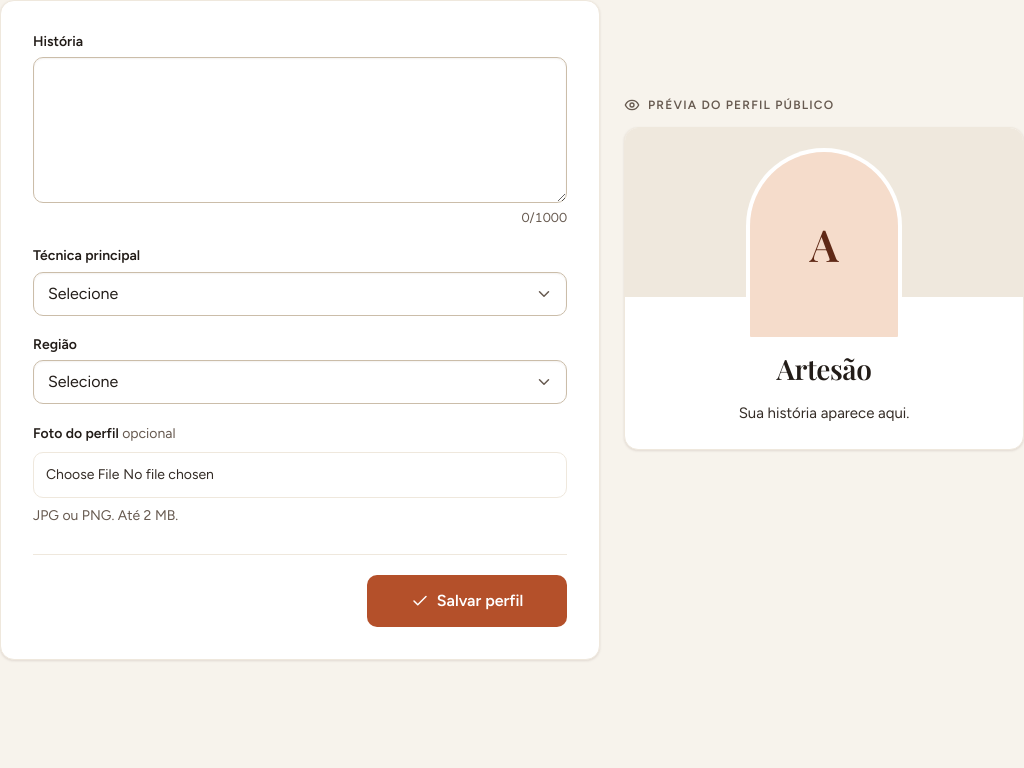
Test: PerfilArtesaoForm › cenario US03 - perfil incompleto: deixar tecnica em branco bloqueia envio e mostra erro no campo
The image size is (1024, 768).
Type "Historia preenchida mas sem tecnica nem regiao selecionadas." into the text box labelled "História" at (300, 130), box [33,57,567,203]
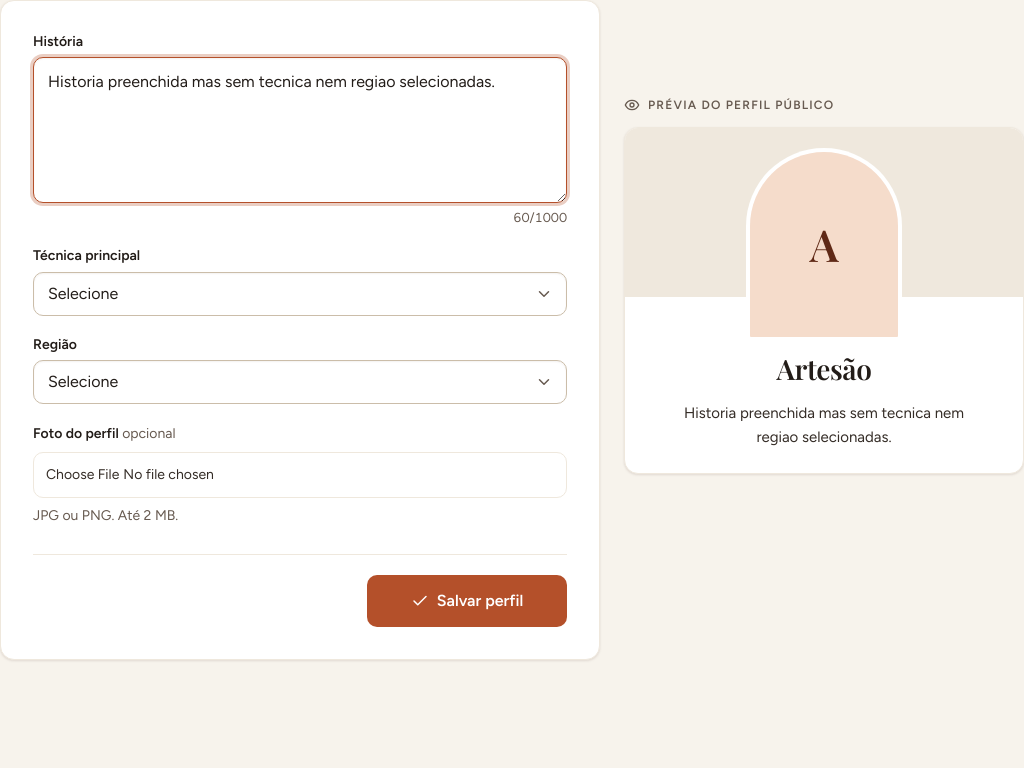
Click the button "Salvar perfil" at (467, 601), box [367,575,567,627]
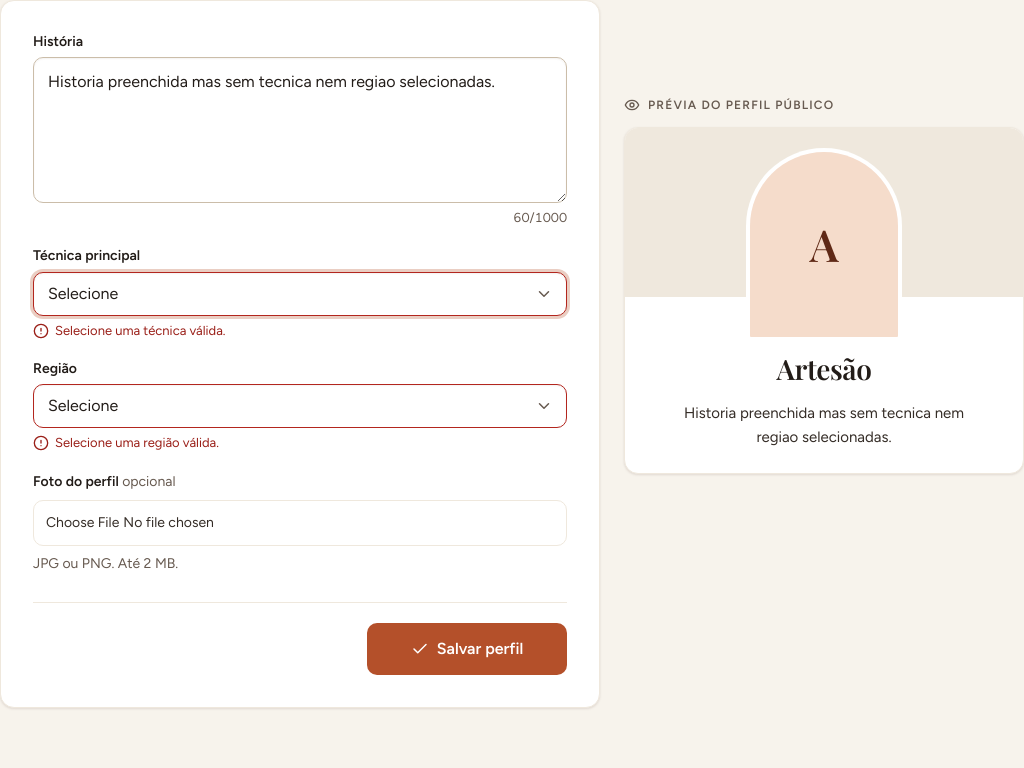
Now the text "Selecione uma técnica válida." is shown, box [33,323,226,339]
Now the text "Selecione uma região válida." is shown, box [33,435,219,451]
